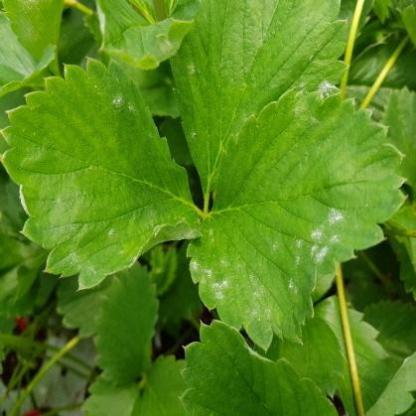Strawberry_Powdery_Mildew_Leaf: (185, 86, 409, 356), (0, 57, 208, 292), (163, 0, 349, 202)
